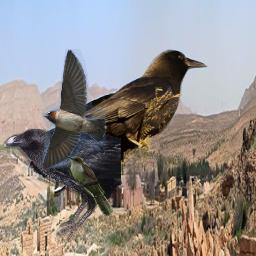Crow: (29, 45, 211, 184), (3, 128, 121, 243)
Cuckoo: (66, 155, 113, 217)
Swallow: (42, 49, 106, 170)
